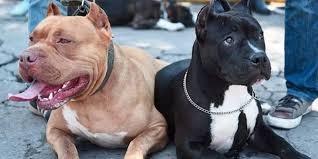Perro Pitbull: (164, 6, 286, 150), (5, 5, 131, 127)
